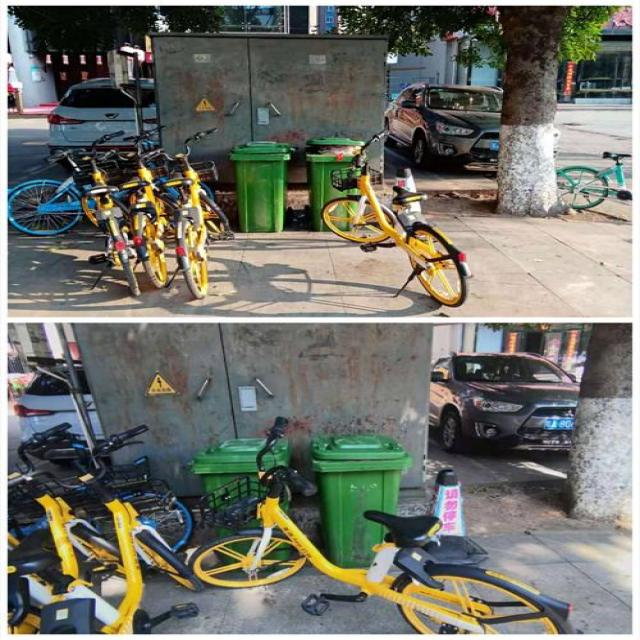garbage_bin: (307, 434, 410, 569), (190, 438, 290, 569), (226, 140, 292, 231)
overflow: (305, 136, 366, 231)
